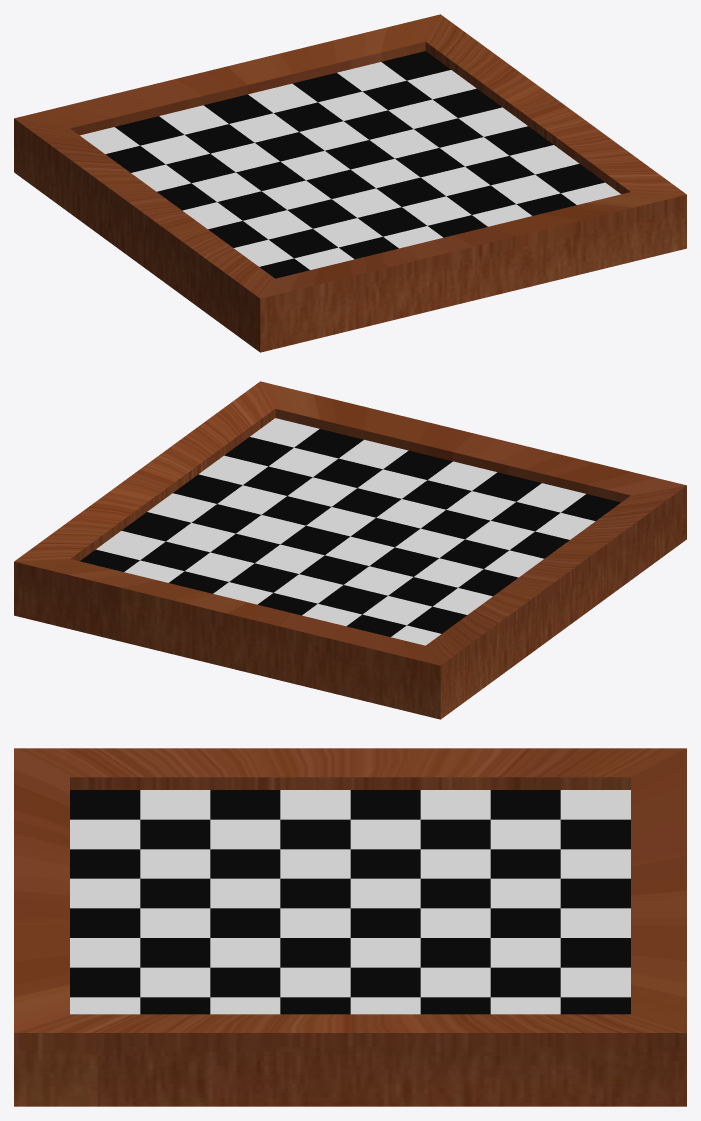
Rendered from Chessboard.fbx.
3 views of the same model, one above another, from view 1: azimuth 30°, elevation 25°; view 2: azimuth 150°, elevation 25°; view 3: azimuth 270°, elevation 25° (orthographic). The views are drawn at different scales.
Parts seen in each view (by area): view 1: Tabuleiro, B4, E2, H3, H5, G6, B3, B6, B8, C8, D8, G8 (+53 smaller); view 2: Tabuleiro, B5, G3, H4, H6, E7, B1, B3, B6, H1, C1, D1 (+53 smaller); view 3: Tabuleiro, B4, G4, D4, B1, B2, B3, B5, B6, B7, B8, D8 (+53 smaller).
Part boxes in pixels (box(x1,y1,x2,y2)): Tabuleiro: box(14, 14, 686, 352); B4: box(217, 191, 286, 220); E2: box(402, 196, 471, 225); H3: box(510, 145, 579, 174); H5: box(458, 107, 527, 136); G6: box(388, 99, 457, 128); B3: box(243, 210, 312, 239); B6: box(166, 153, 235, 183); B8: box(115, 116, 184, 145); C8: box(159, 105, 228, 134); D8: box(203, 94, 272, 123); G8: box(337, 62, 406, 91); Tabuleiro: box(14, 381, 686, 719); B5: box(414, 558, 483, 587); G3: box(243, 466, 312, 495); H4: box(173, 474, 242, 503); H6: box(121, 512, 190, 541); E7: box(229, 563, 298, 592); B1: box(516, 483, 585, 512); B3: box(465, 520, 534, 550); B6: box(388, 577, 457, 606); H1: box(250, 418, 319, 447); C1: box(472, 472, 541, 501); D1: box(428, 461, 497, 490); Tabuleiro: box(14, 748, 686, 1106); B4: box(280, 819, 350, 849); G4: box(280, 967, 350, 997); D4: box(280, 878, 350, 908); B1: box(70, 819, 140, 849); B2: box(140, 819, 210, 849); B3: box(210, 819, 280, 849); B5: box(350, 819, 420, 849); B6: box(420, 819, 490, 849); B7: box(490, 819, 560, 849); B8: box(560, 819, 630, 849); D8: box(560, 878, 630, 908).
Bounding box in the file's own units: 240 × 29 × 240.
